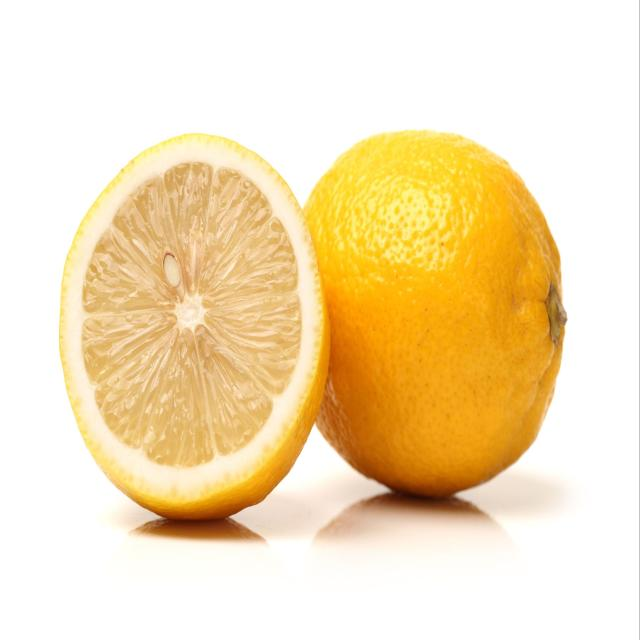lemon: (53, 125, 334, 528), (297, 124, 571, 507)
